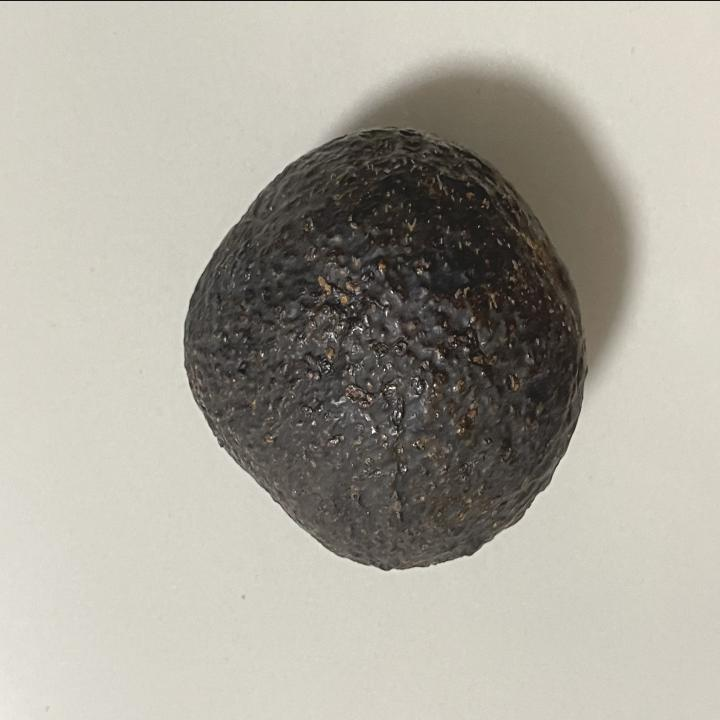Level3: (174, 116, 596, 588)
